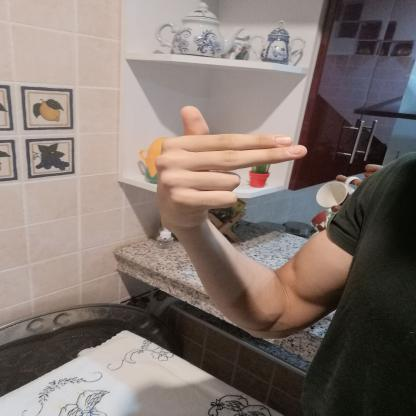GHAYN: (140, 95, 323, 239)
